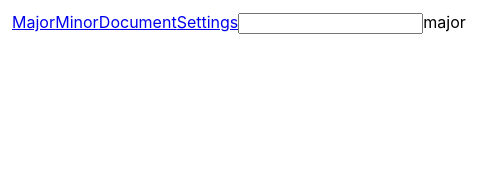
Scenario: panel app routes › opens direct links after the target panel registers without taking back a manually chosen tab
Click the link "Minor" at (77, 22), box [55,12,99,32]
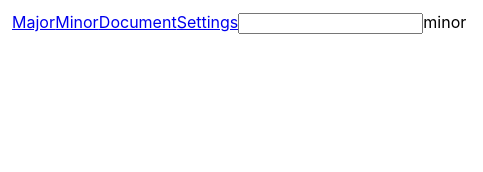
Check: the text with test id "board-route" reads "minor", box [423,12,466,32]
